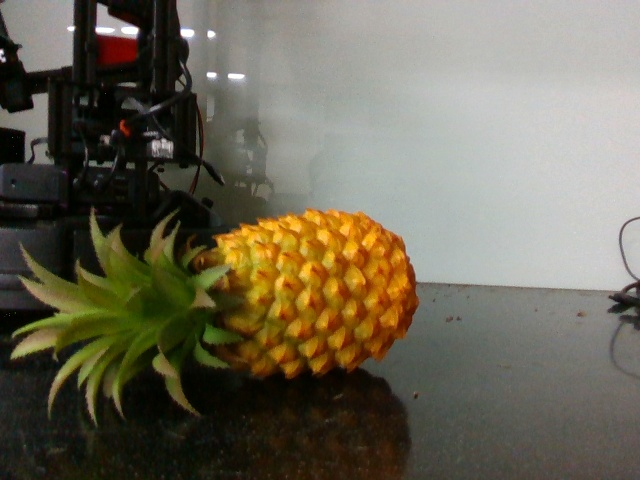pineapple: (19, 206, 420, 406)
